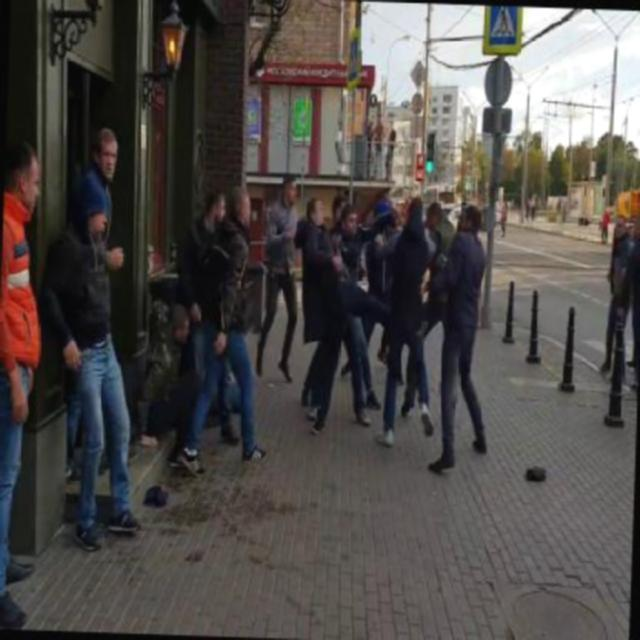fight: (313, 200, 442, 434), (294, 189, 442, 363)
non-fight: (48, 177, 148, 548), (178, 176, 277, 482), (0, 133, 54, 630)
